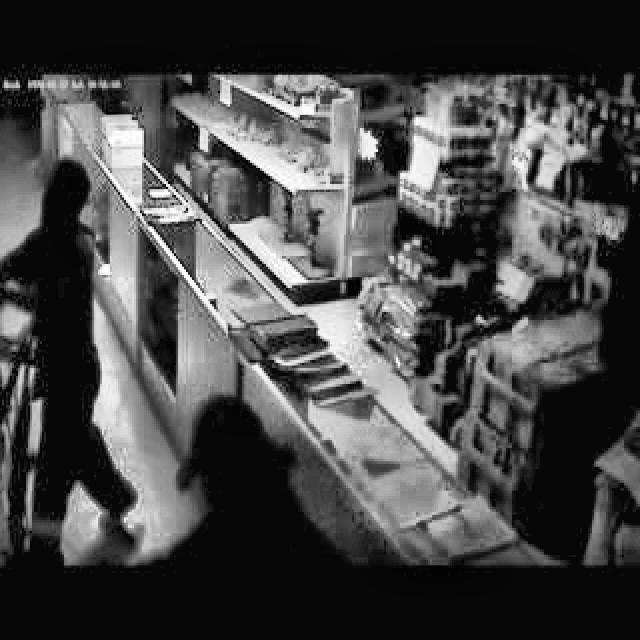Weapon: (12, 155, 206, 542)
